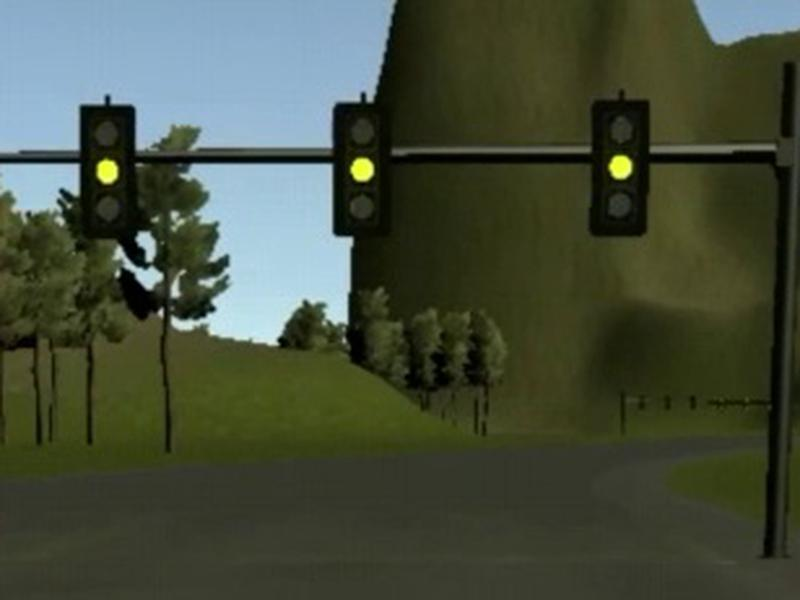Yellow: (590, 98, 650, 237), (332, 102, 391, 236), (80, 104, 135, 238)
